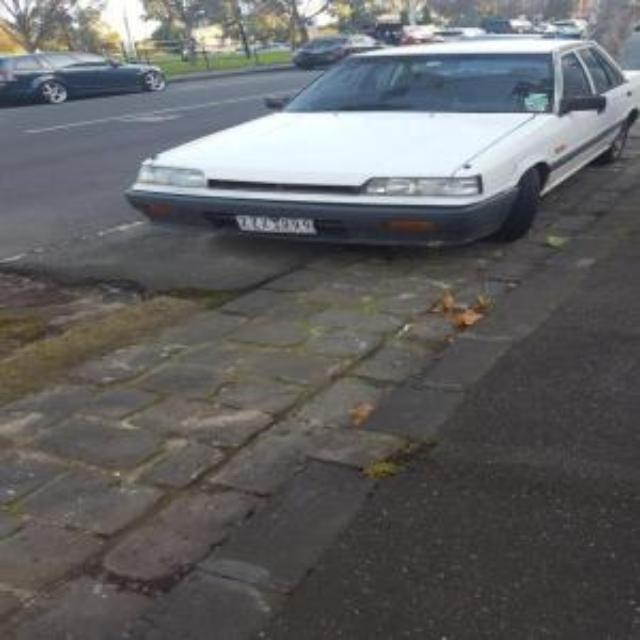License Plate: (234, 215, 316, 234)
